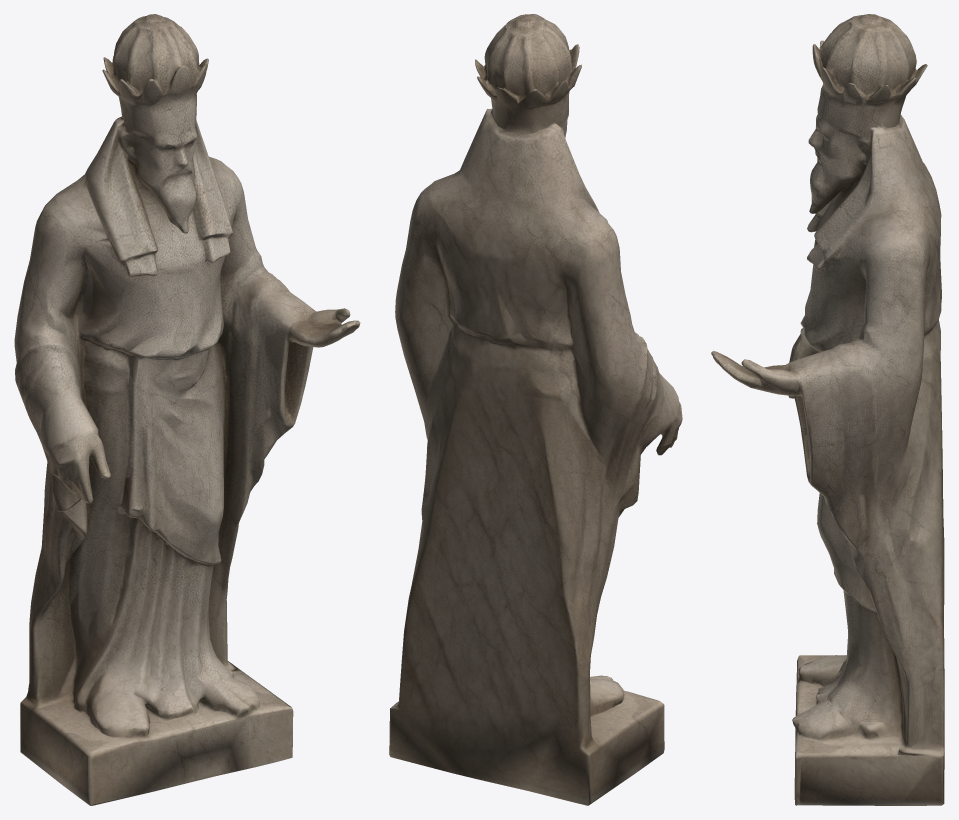
File: prp_lm_colossus_a.glb
3 views of the same model, side by side, from view 1: azimuth 30°, elevation 25°; view 2: azimuth 150°, elevation 25°; view 3: azimuth 270°, elevation 25° (orthographic).
Visible parts, largest first — view 1: prp_lm_colossus_a; view 2: prp_lm_colossus_a; view 3: prp_lm_colossus_a.
Part boxes in pixels (<box>): prp_lm_colossus_a: <box>14,14,360,805</box>; prp_lm_colossus_a: <box>389,14,682,805</box>; prp_lm_colossus_a: <box>711,14,944,805</box>.
Size of the model in its own units: 13.63 by 36 by 10.29.
1 material, 1 textured.
